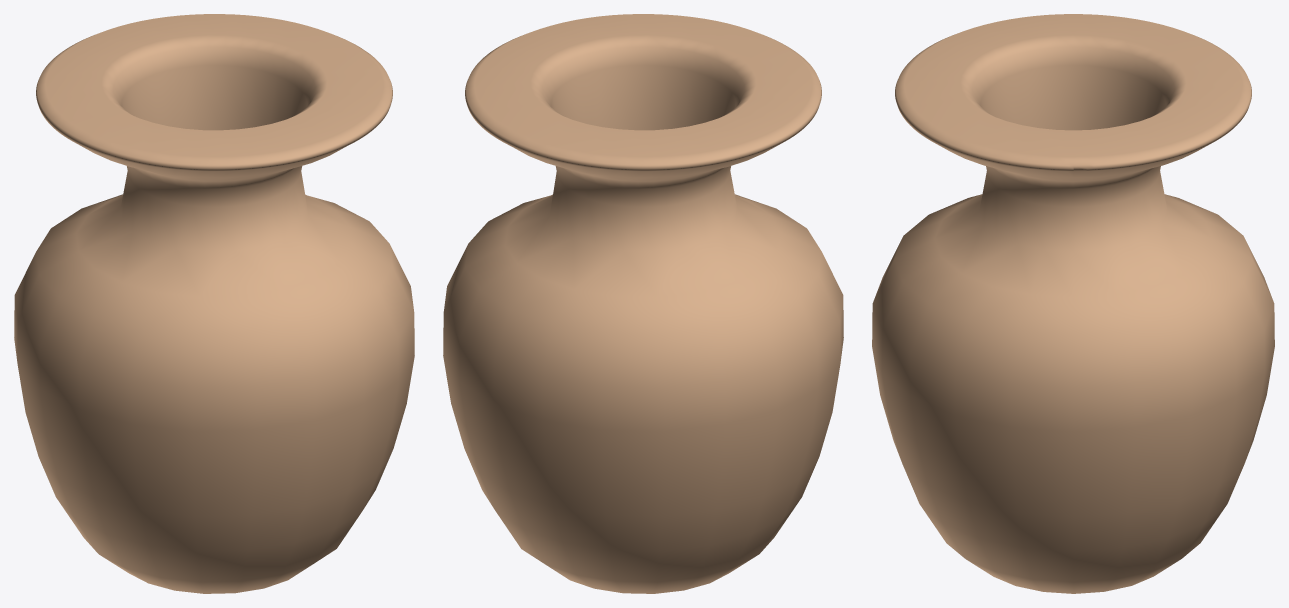
The model's file is Pot geel.fbx.
3 views of the same model, side by side, from view 1: azimuth 30°, elevation 25°; view 2: azimuth 150°, elevation 25°; view 3: azimuth 270°, elevation 25° (orthographic).
Visible parts, largest first — view 1: Pot; view 2: Pot; view 3: Pot.
Boxes of the visible parts, x1=… form: Pot: x1=14, y1=14, x2=414, y2=593; Pot: x1=443, y1=14, x2=843, y2=593; Pot: x1=872, y1=14, x2=1274, y2=593.
Size of the model in its own units: 0.3893 by 0.5078 by 0.3893.
